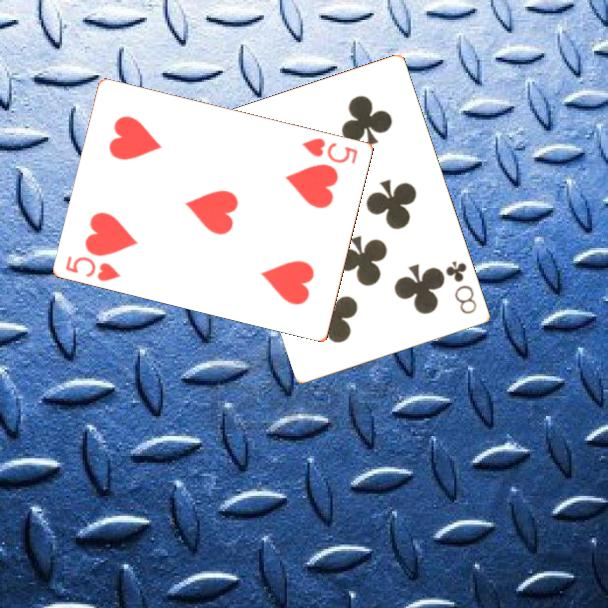c08: (442, 258, 480, 317)
h05: (299, 134, 361, 166), (62, 252, 124, 284)
